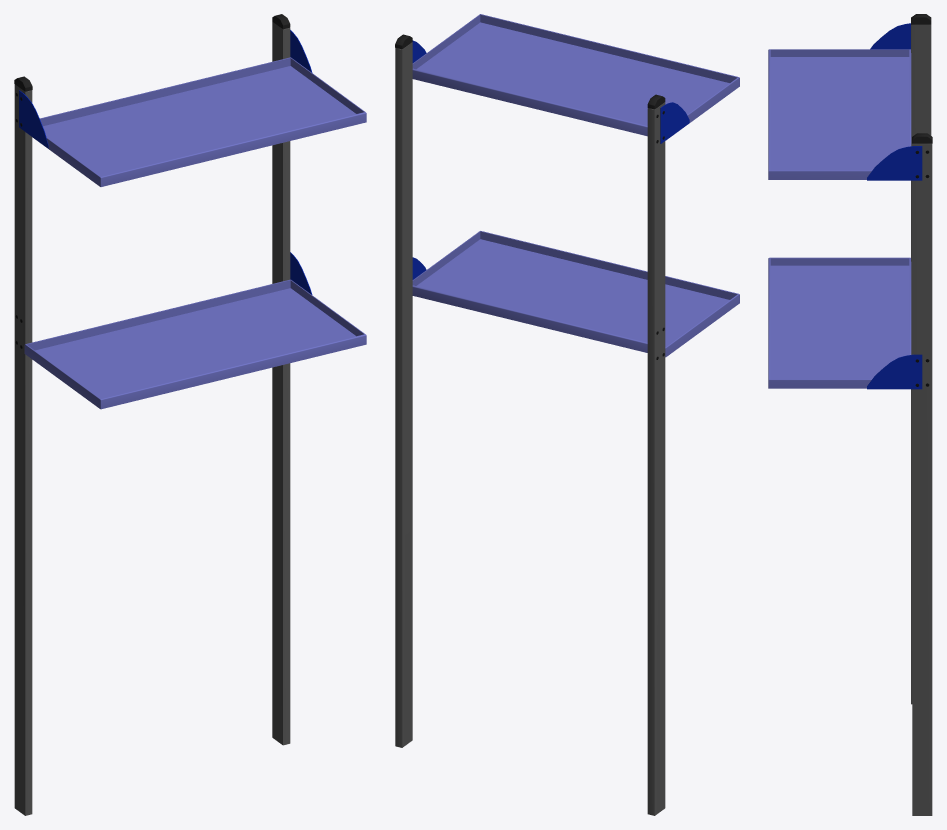
The model's file is EstanteriaEstrecha.fbx.
3 renders of one model, left to right at view 1: azimuth 30°, elevation 25°; view 2: azimuth 150°, elevation 25°; view 3: azimuth 270°, elevation 25°, orthographic. The views are drawn at different scales.
Visible parts, largest first — view 1: Box165, Box105, Box153, Box159, Box154; view 2: Box105, Box165, Box153, Box159, Box154; view 3: Box165, Box105, Box159, Box153, Box170, Box160, Box154.
Boxes of the visible parts, bbox=[...] form: Box165: bbox=[24, 279, 366, 409]; Box105: bbox=[25, 57, 366, 186]; Box153: bbox=[14, 76, 32, 815]; Box159: bbox=[272, 14, 290, 745]; Box154: bbox=[19, 90, 48, 148]; Box105: bbox=[412, 14, 739, 140]; Box165: bbox=[412, 231, 739, 357]; Box153: bbox=[647, 94, 665, 815]; Box159: bbox=[395, 34, 412, 747]; Box154: bbox=[660, 102, 689, 143]; Box165: bbox=[768, 257, 911, 388]; Box105: bbox=[768, 49, 911, 179]; Box159: bbox=[912, 133, 932, 815]; Box153: bbox=[911, 14, 931, 704]; Box170: bbox=[867, 354, 922, 389]; Box160: bbox=[867, 146, 922, 180]; Box154: bbox=[870, 23, 910, 49].
Size of the model in its own units: 9.55 by 24.92 by 5.39.
